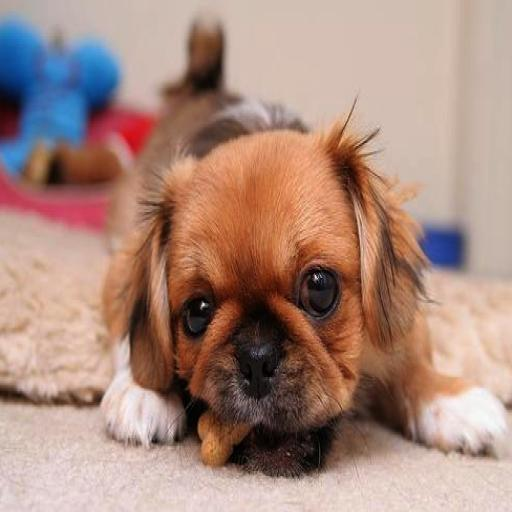dog_face: (95, 130, 424, 489)
